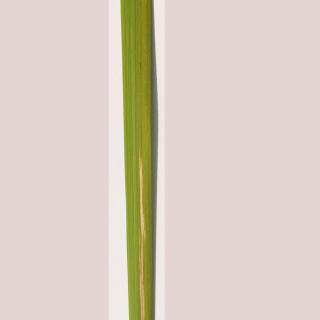Hawar-Daun: (128, 155, 160, 312)
